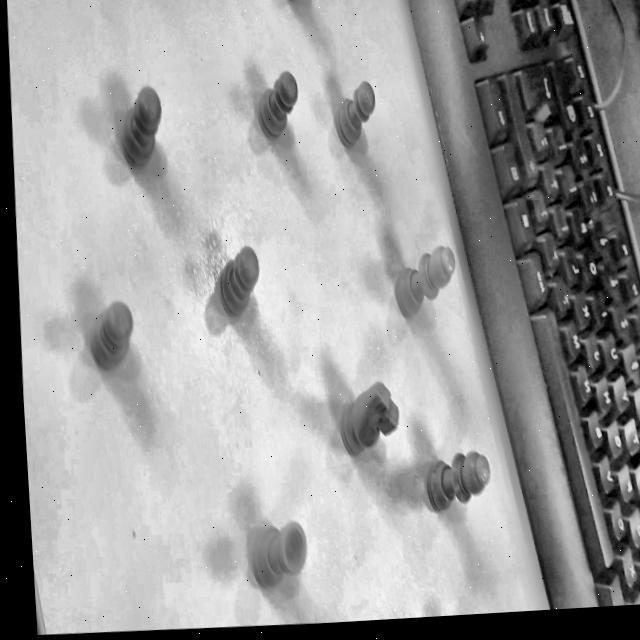white-bishop: (394, 247, 453, 318), (425, 452, 488, 511)
white-knight: (339, 383, 397, 455)
white-pawn: (204, 247, 258, 333), (117, 87, 160, 169), (88, 301, 132, 372), (256, 71, 296, 141), (334, 82, 373, 147)
white-rook: (250, 523, 305, 588)
